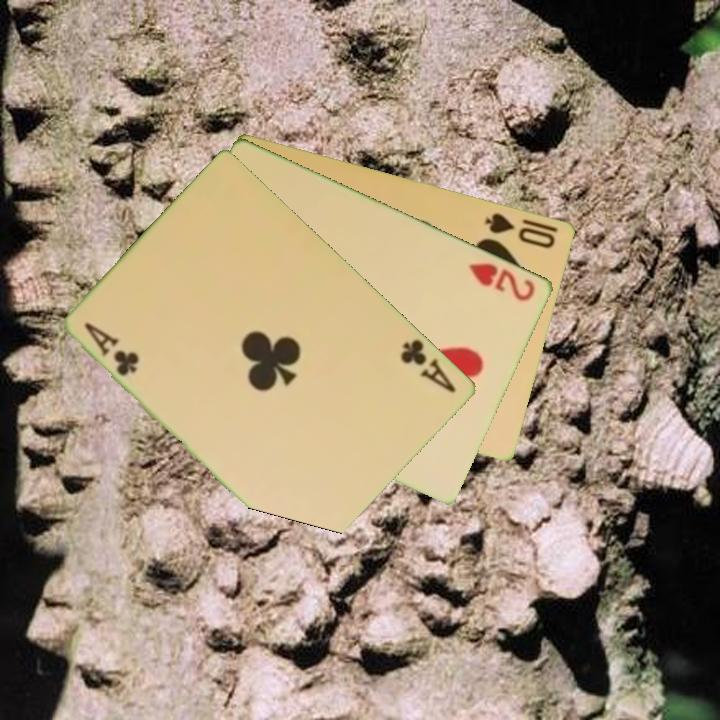10s: (482, 209, 559, 251)
2h: (465, 259, 539, 304)
Ac: (81, 318, 143, 379), (397, 336, 460, 396)
